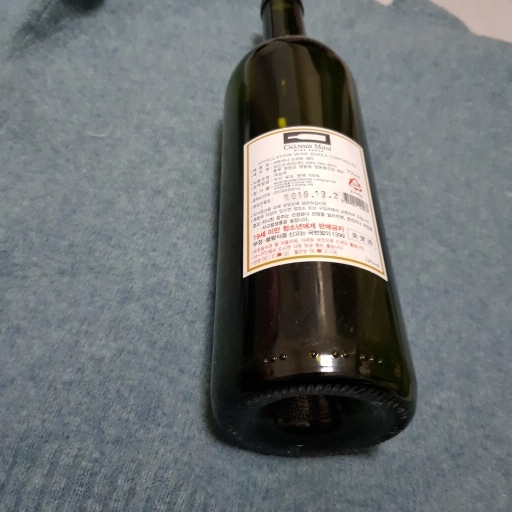Glass_2: (199, 2, 419, 460)
